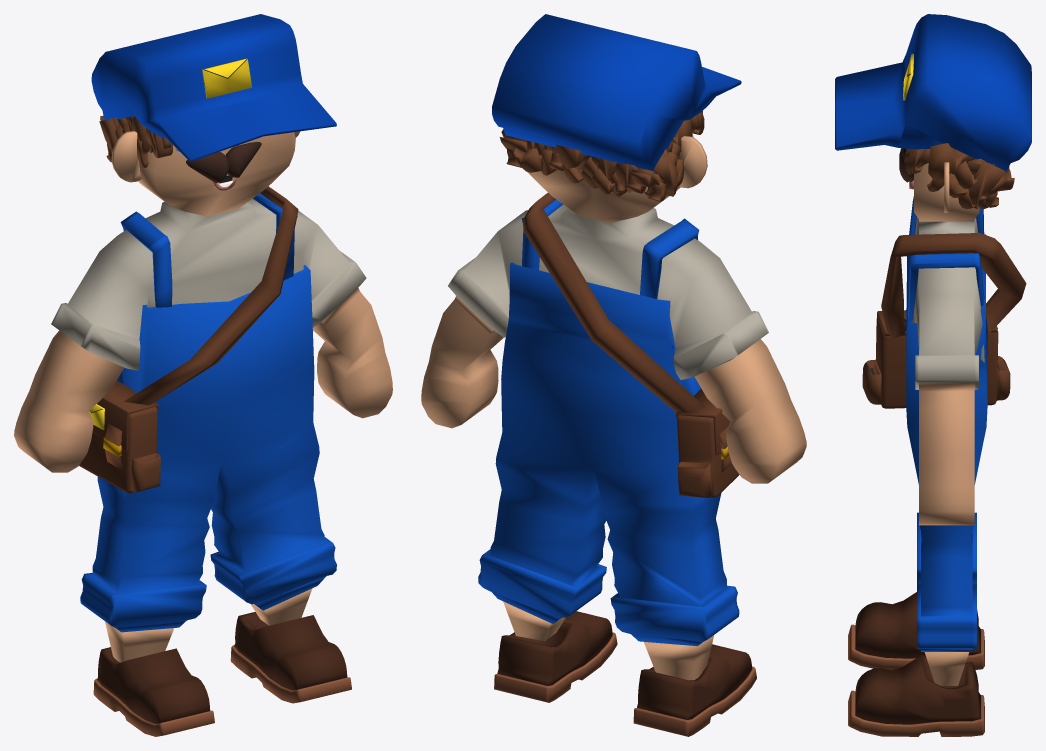
File: postacı.fbx
3 views of the same model, side by side, from view 1: azimuth 30°, elevation 25°; view 2: azimuth 150°, elevation 25°; view 3: azimuth 270°, elevation 25° (orthographic). The views are drawn at different scales.
Visible parts, largest first — view 1: Cube; view 2: Cube; view 3: Cube.
Part boxes in pixels (x1,y1,x2,y2): Cube: (14, 14, 392, 736); Cube: (421, 14, 806, 736); Cube: (835, 14, 1031, 736).
Bounding box in the file's own units: 71.43 × 127 × 35.2.
1 material, 1 textured.
